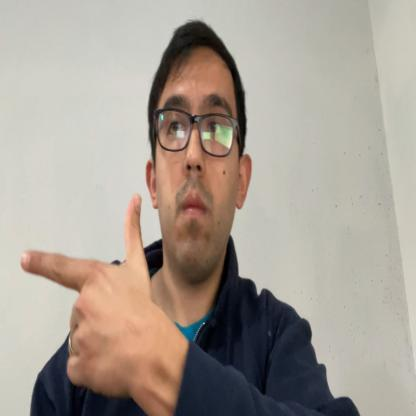G: (19, 192, 150, 399)
